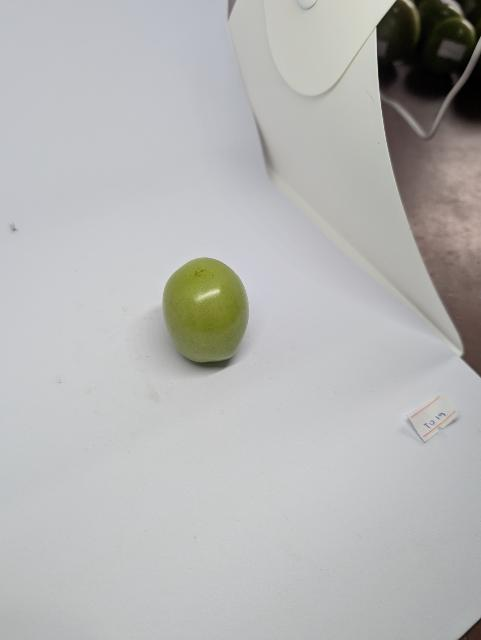green: (161, 254, 254, 367)
